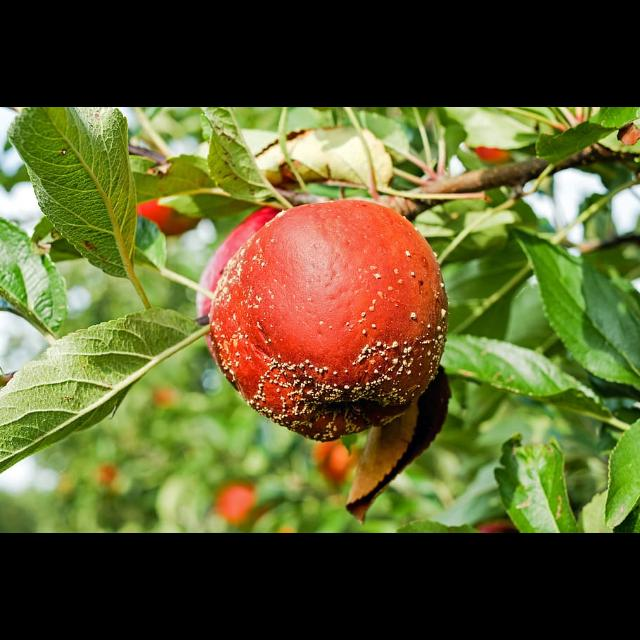Apel Tidak Segar: (196, 203, 470, 464)
